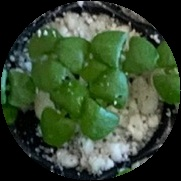Basil: (77, 73, 129, 134), (40, 77, 84, 143), (94, 30, 161, 69), (32, 31, 73, 88), (58, 38, 109, 82), (154, 39, 181, 105), (0, 63, 33, 111)
